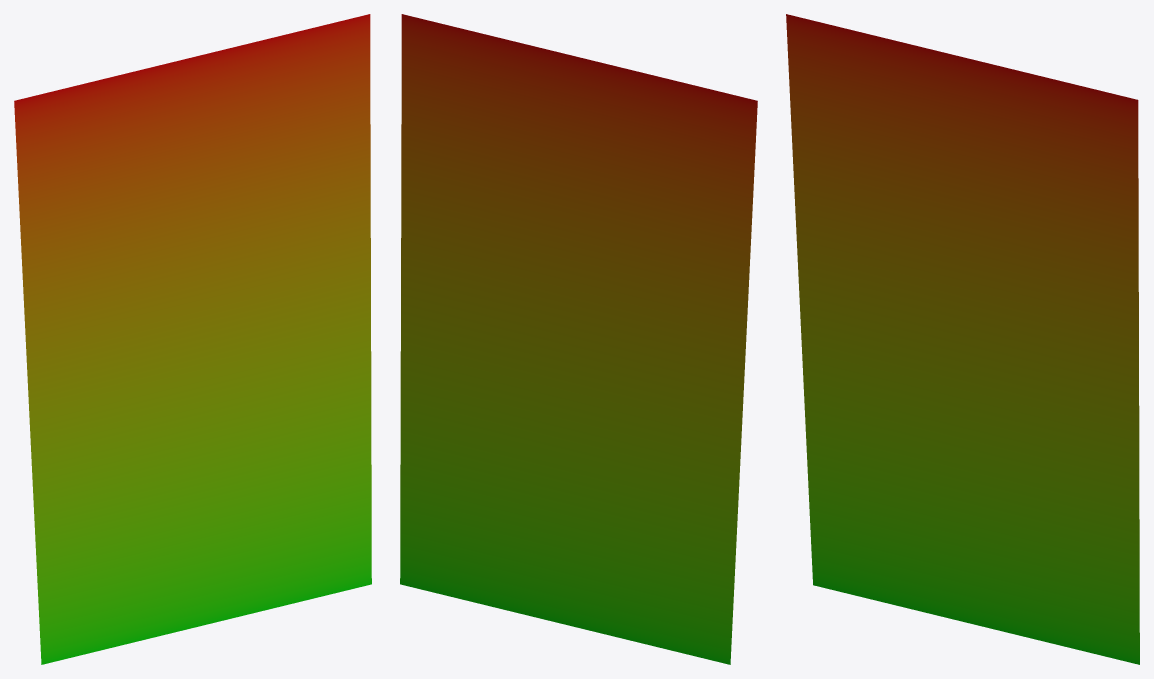
Rendered from Rough Meadow Grass_LOD3_Var2_skFjJ.fbx.
3 renders of one model, left to right at view 1: azimuth 30°, elevation 25°; view 2: azimuth 150°, elevation 25°; view 3: azimuth 330°, elevation 25°, orthographic.
Parts seen in each view (by area): view 1: _90ef_Var2_LOD3; view 2: _90ef_Var2_LOD3; view 3: _90ef_Var2_LOD3.
Boxes of the visible parts, box(x1,y1,x2,y2) form: _90ef_Var2_LOD3: box(14, 14, 371, 664); _90ef_Var2_LOD3: box(400, 14, 757, 664); _90ef_Var2_LOD3: box(786, 14, 1139, 664).
Bounding box in the file's own units: 111 × 169 × 2.89e-06.
